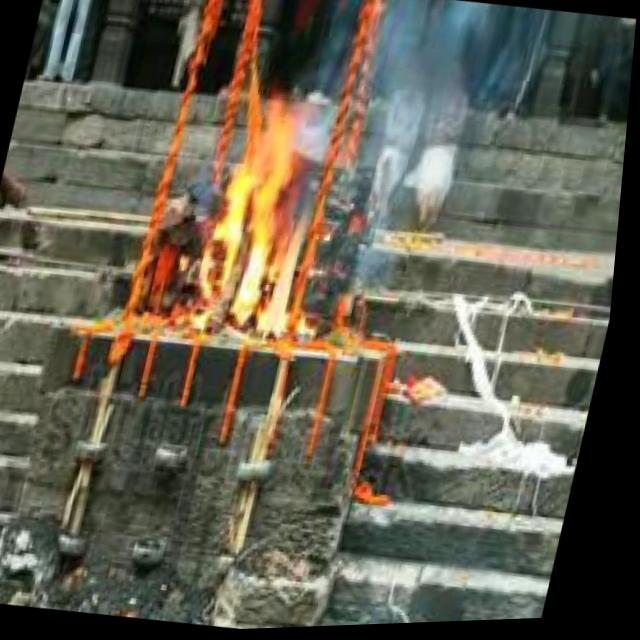Fire: (183, 116, 334, 353)
